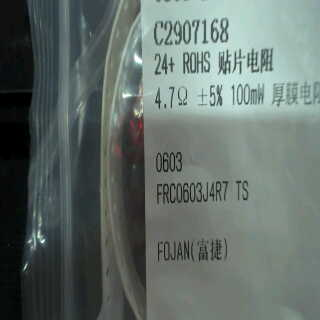4.7R: (148, 83, 196, 110)
